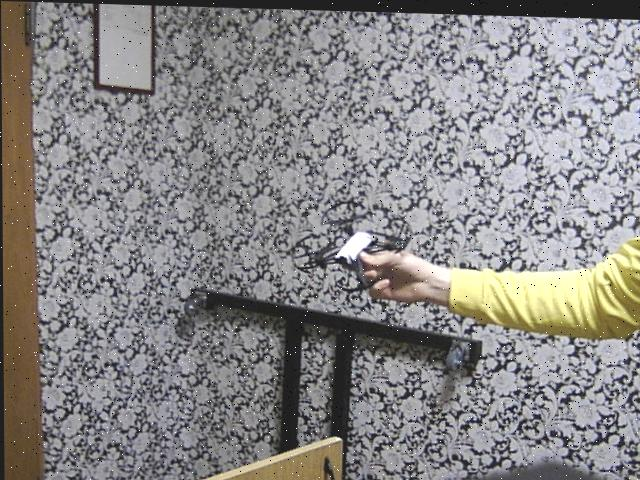drone: (287, 191, 412, 298)
